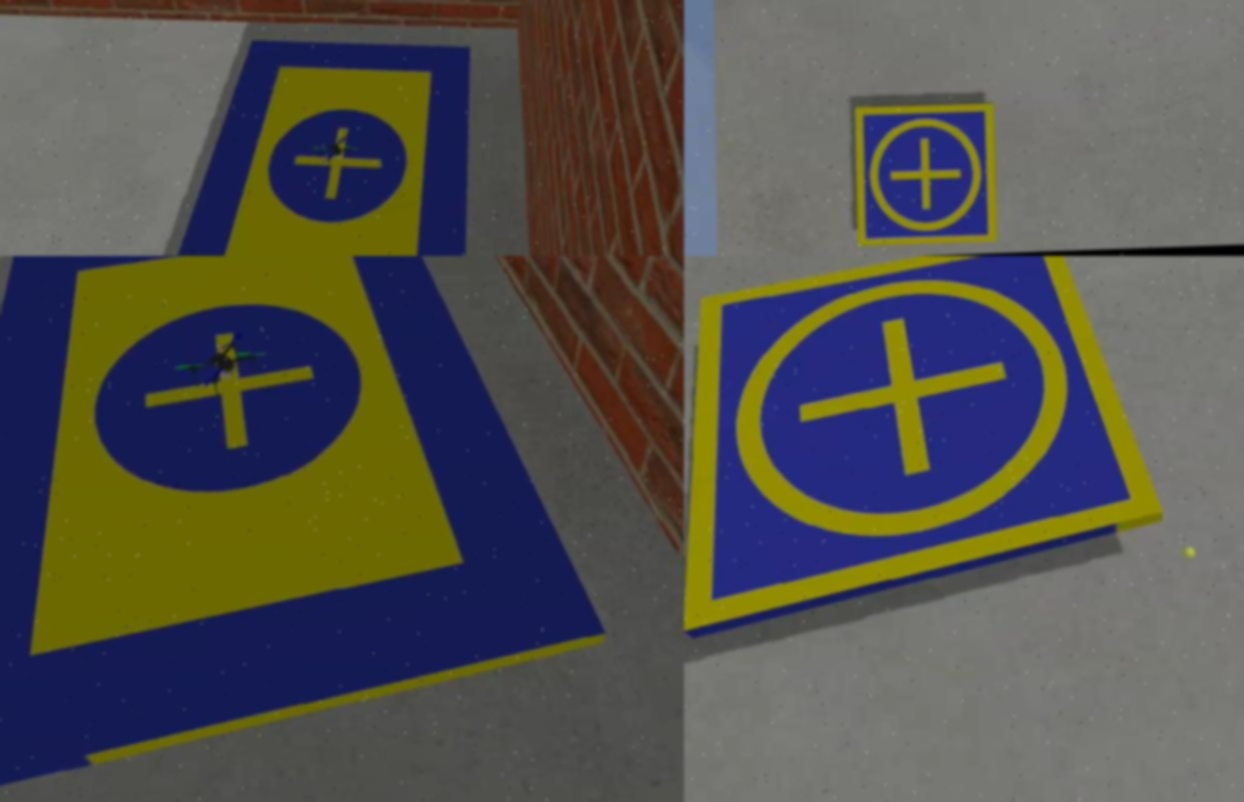large_base: (0, 256, 611, 802), (145, 30, 479, 256)
small_base: (684, 256, 1169, 640), (852, 102, 1001, 249)
